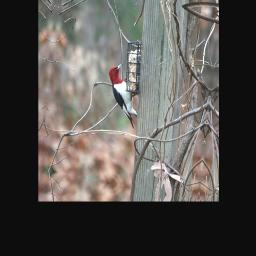Woodpecker: (100, 57, 147, 132)
